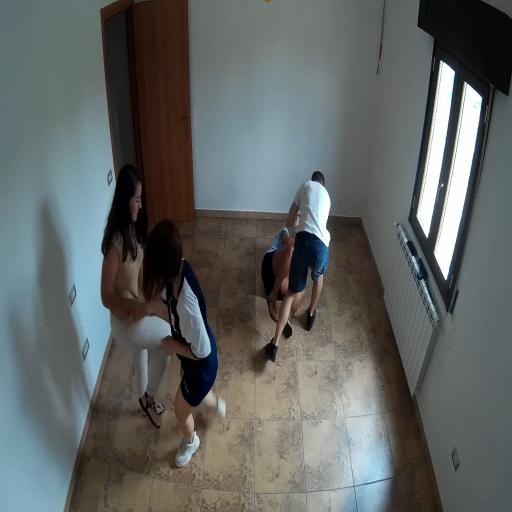violencia: (82, 162, 234, 484), (254, 150, 342, 378)
